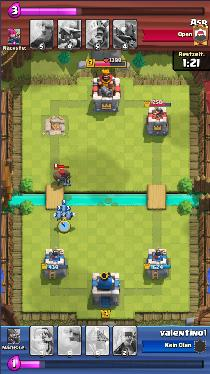enemy_hunter: (51, 169, 71, 185)
enemy_minion: (64, 211, 76, 220), (54, 211, 62, 220), (59, 204, 68, 211)
